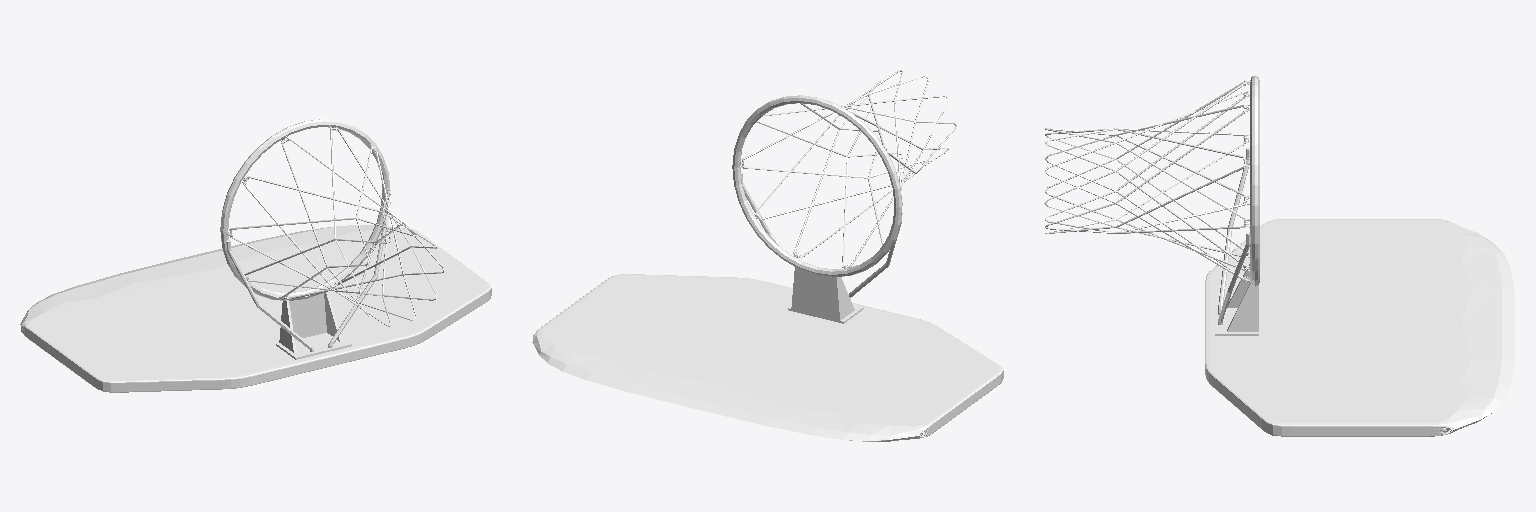
robot.urdf — hoop:
<robot name="hoop">
	<link name="_name">
		<visual>
			<origin rpy="0 0 0" xyz="0.0 0.36681044999999995 0.03" />
			<geometry>
				<mesh filename="hoop/basketball_net_and_board.obj" scale="0.02 0.02 0.02" />
			</geometry>
			<material name="texture">
				<color rgba="1.0 1.0 1.0 1.0" />
			</material>
		</visual>
		<collision>
			<geometry>
				<mesh filename="hoop/basketball_net_and_board_vhacd.obj" scale="0.02 0.02 0.02" />
			</geometry>
		<origin rpy="0 0 0" xyz="0.0 0.36681044999999995 0.03" /></collision>
		<inertial>
			<mass value="1.0" />
			<inertia ixx="1.0" ixy="0.0" ixz="0.0" iyy="1.0" iyz="0.0" izz="1.0" />
		</inertial>
	</link>
</robot>

--- What the picture shows (computed from the rendered views, not written in the file) ---
The picture shows the robot from 3 angles, left to right: view 1: azimuth 30°, elevation 25°; view 2: azimuth 150°, elevation 25°; view 3: azimuth 270°, elevation 25°; orthographic projection.
Model hoop with 1 links and 0 joints (none), rooted at _name, posed all joints at 0.
Links seen in each view (by area): view 1: _name; view 2: _name; view 3: _name.
Link boxes in pixels (bbox=[...]): _name: bbox=[20, 119, 491, 392]; _name: bbox=[532, 70, 1003, 441]; _name: bbox=[1044, 75, 1515, 436].
Size in the robot's own frame: 2.18 by 2.09 by 1.22 metres.
Meshes: 1 distinct files referenced, 1 mesh visuals loaded (1 OBJ).